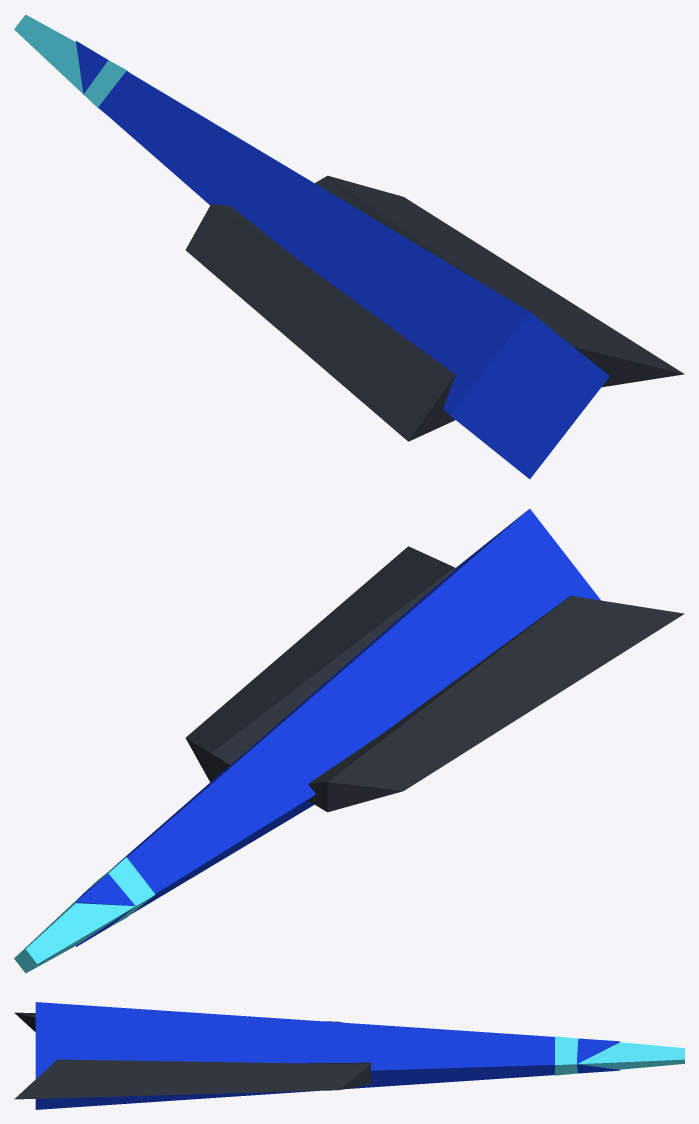
Rendered from Funnel.obj.
3 views of the same model, one above another, from view 1: azimuth 30°, elevation 25°; view 2: azimuth 150°, elevation 25°; view 3: azimuth 270°, elevation 25° (orthographic). The views are drawn at different scales.
Parts seen in each view (by area): view 1: Funnel; view 2: Funnel; view 3: Funnel.
Boxes of the visible parts, x1,y1,x2,y2 form: Funnel: (14,14,684,479); Funnel: (14,508,684,973); Funnel: (14,1002,684,1109).
Size of the model in its own units: 0.19 by 0.11 by 0.62.
